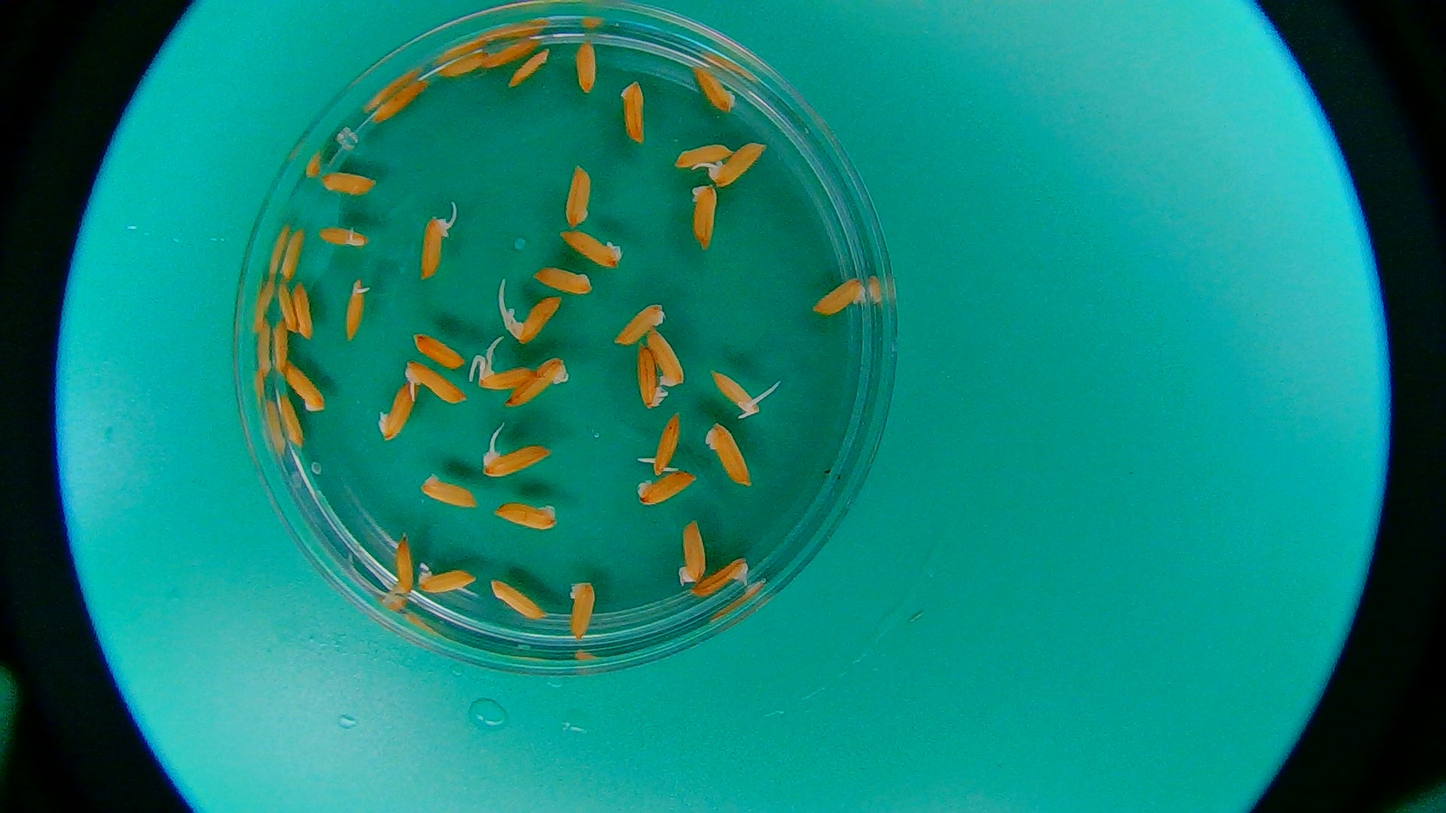no: (501, 356, 571, 408), (701, 423, 754, 486), (410, 322, 468, 372), (491, 578, 550, 624), (645, 327, 688, 390), (614, 297, 667, 346), (280, 360, 328, 414), (560, 230, 625, 269), (377, 382, 415, 443), (678, 517, 712, 585), (373, 81, 428, 123), (691, 65, 736, 114), (813, 278, 868, 318), (416, 561, 477, 597), (636, 471, 699, 505), (636, 346, 669, 410), (494, 500, 558, 532), (420, 473, 476, 508), (563, 164, 593, 228), (691, 184, 718, 252), (618, 81, 648, 142), (567, 577, 594, 641), (532, 268, 594, 295), (389, 535, 416, 597), (510, 50, 551, 87), (277, 394, 306, 446), (322, 169, 375, 197), (481, 38, 536, 63), (437, 51, 486, 78), (293, 282, 316, 339), (673, 144, 731, 166), (575, 39, 597, 94), (281, 229, 305, 278), (316, 225, 368, 246), (276, 283, 297, 331), (272, 321, 287, 374)
yes: (404, 361, 467, 409), (710, 142, 768, 187), (688, 557, 751, 598), (510, 295, 560, 346), (480, 443, 547, 480), (712, 372, 761, 420), (420, 216, 453, 282), (650, 413, 682, 477), (479, 360, 534, 389), (343, 277, 367, 342)
